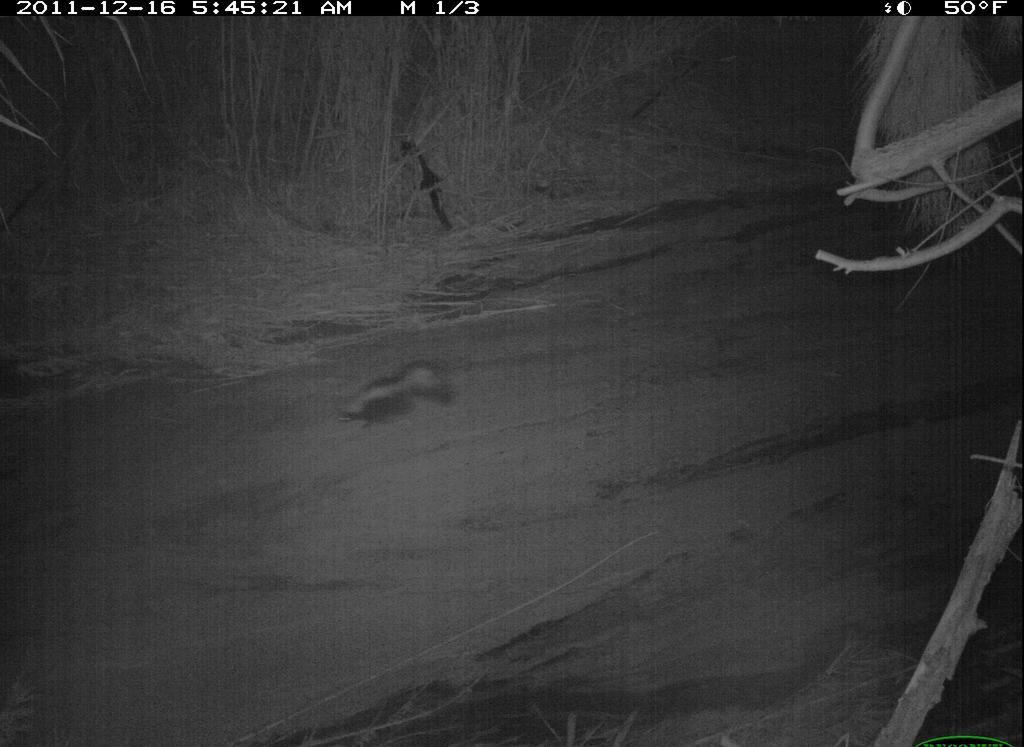skunk: (319, 346, 478, 446)
